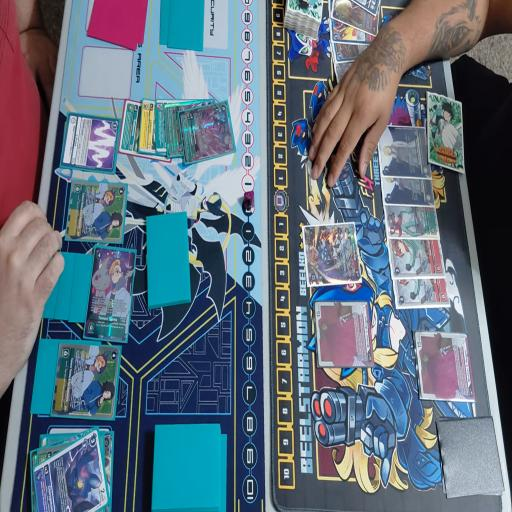card: (35, 426, 109, 512), (52, 338, 116, 422), (412, 330, 477, 407), (84, 248, 137, 342), (65, 180, 130, 243), (313, 302, 372, 370), (179, 98, 236, 167), (303, 222, 362, 285), (60, 117, 122, 169), (380, 126, 430, 176), (390, 240, 444, 277), (386, 207, 442, 240), (332, 0, 380, 36), (392, 280, 450, 308), (383, 180, 436, 208), (331, 17, 378, 44), (163, 96, 180, 161), (120, 101, 141, 152), (333, 52, 362, 86), (140, 98, 156, 154), (332, 43, 373, 62), (154, 91, 166, 152)
